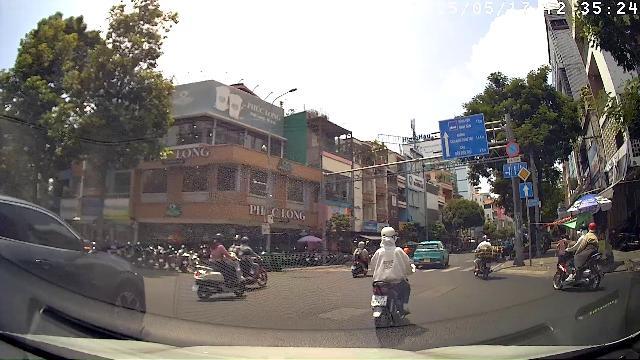131a-cam-do-xe: (506, 142, 520, 156)
